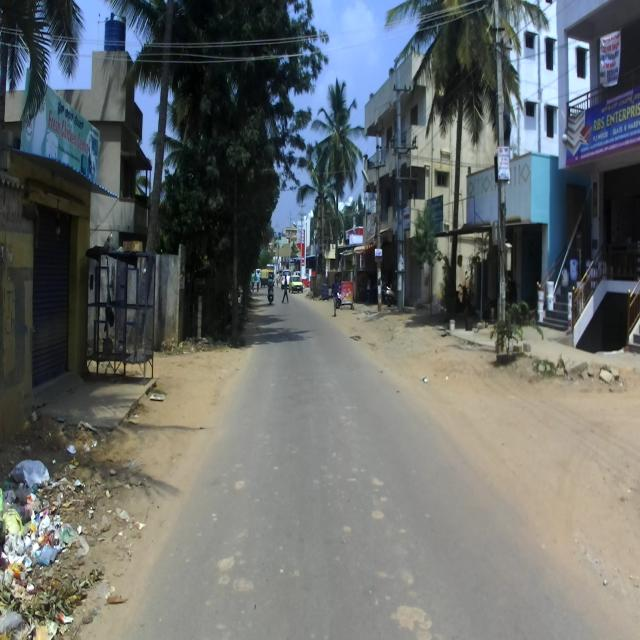electric pole ahead at: (489, 0, 518, 365)
gate ahead at: (92, 242, 154, 390)
